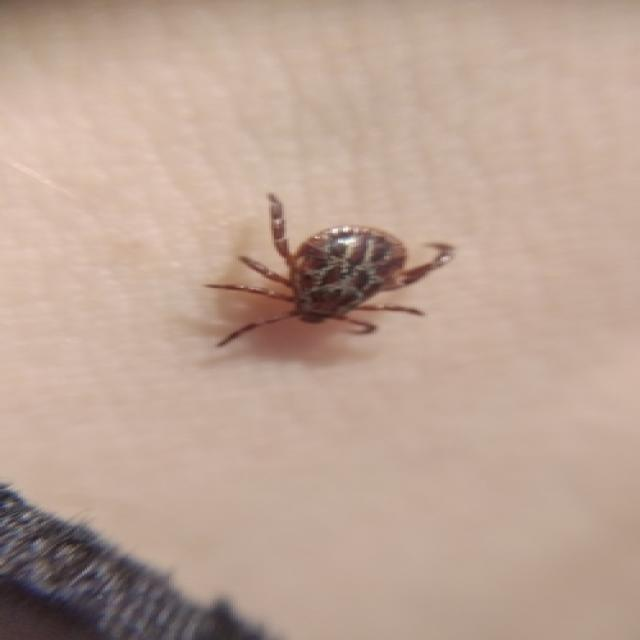Dermacentor Reticulatus-M: (202, 193, 456, 347)
